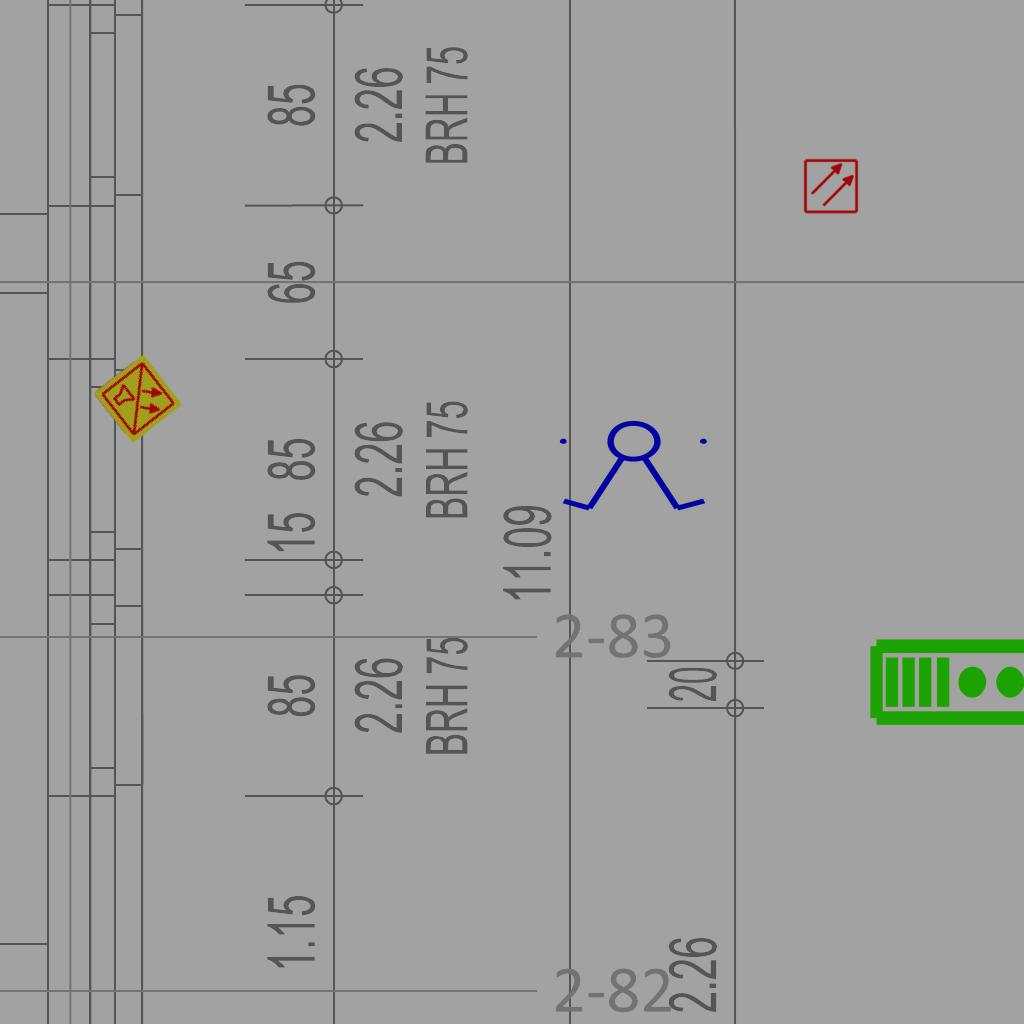Gegensprechanlage_mit_Video: (868, 633, 1024, 728)
OKW_Multisensormelder_(Kombination_optischer_Rauch-Kahlenmonoxid_Waerme-Melder): (91, 352, 185, 446)
RMO_Rauchmelder_optischer: (803, 158, 859, 214)
Serienschalter: (551, 419, 719, 515)
